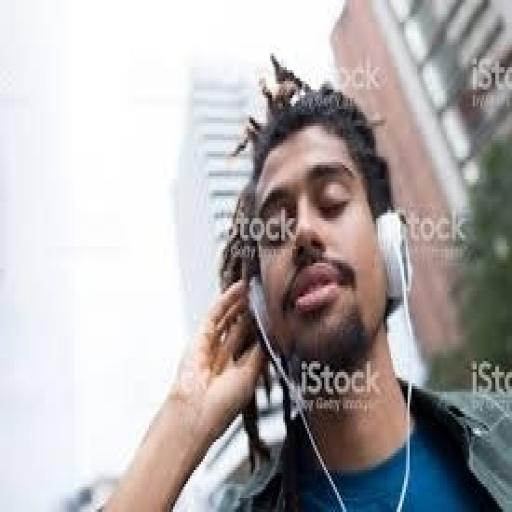listening_to_music: (86, 56, 510, 509)
